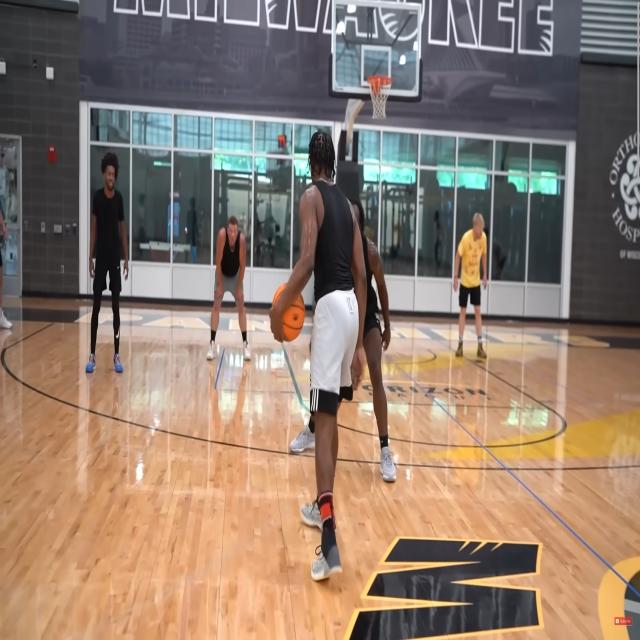Basketball: (272, 282, 305, 340)
Basketball Rim: (367, 76, 393, 119)
